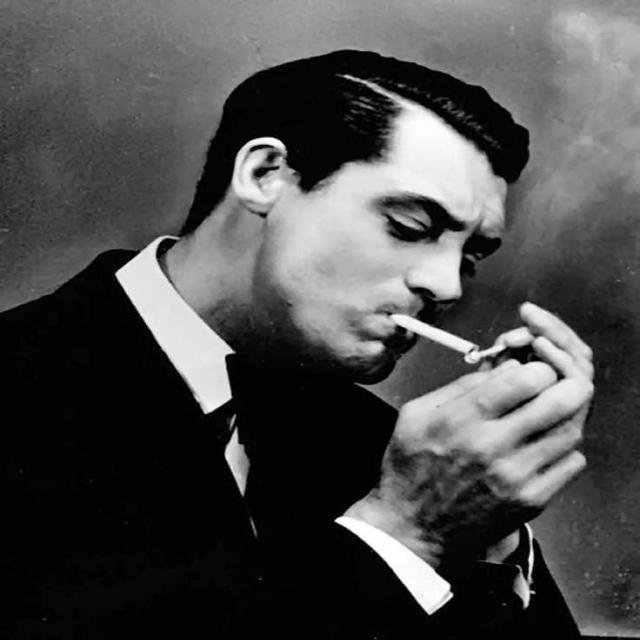Smooking: (381, 303, 482, 367)
